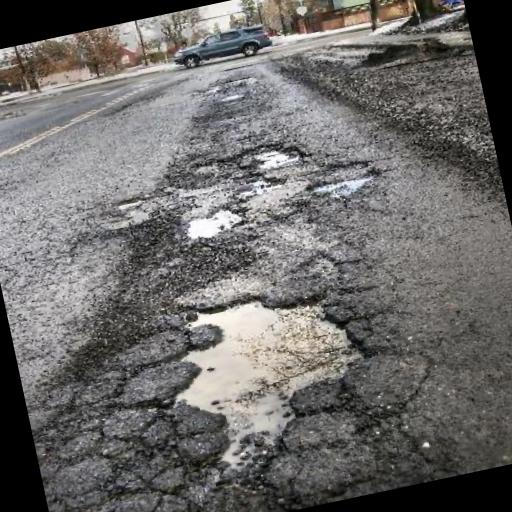pothole: (142, 266, 395, 488), (302, 153, 384, 203), (234, 132, 309, 176), (180, 202, 250, 246), (234, 164, 292, 198), (113, 192, 146, 211)
